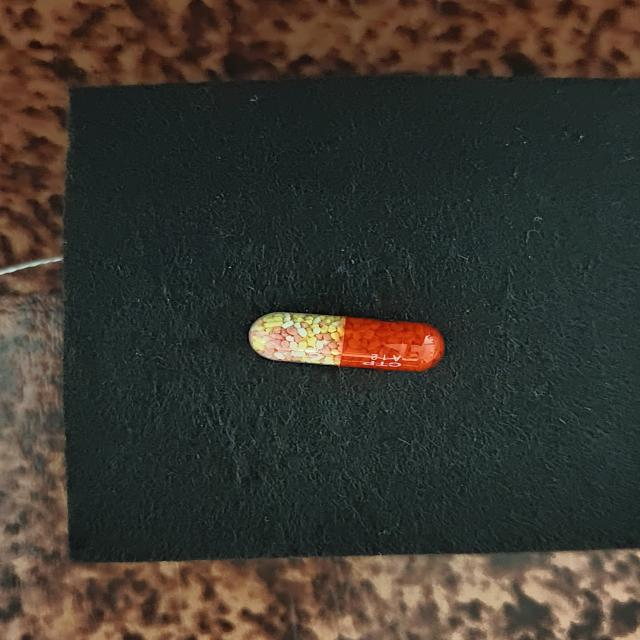Intact Capsule: (249, 312, 445, 372)
